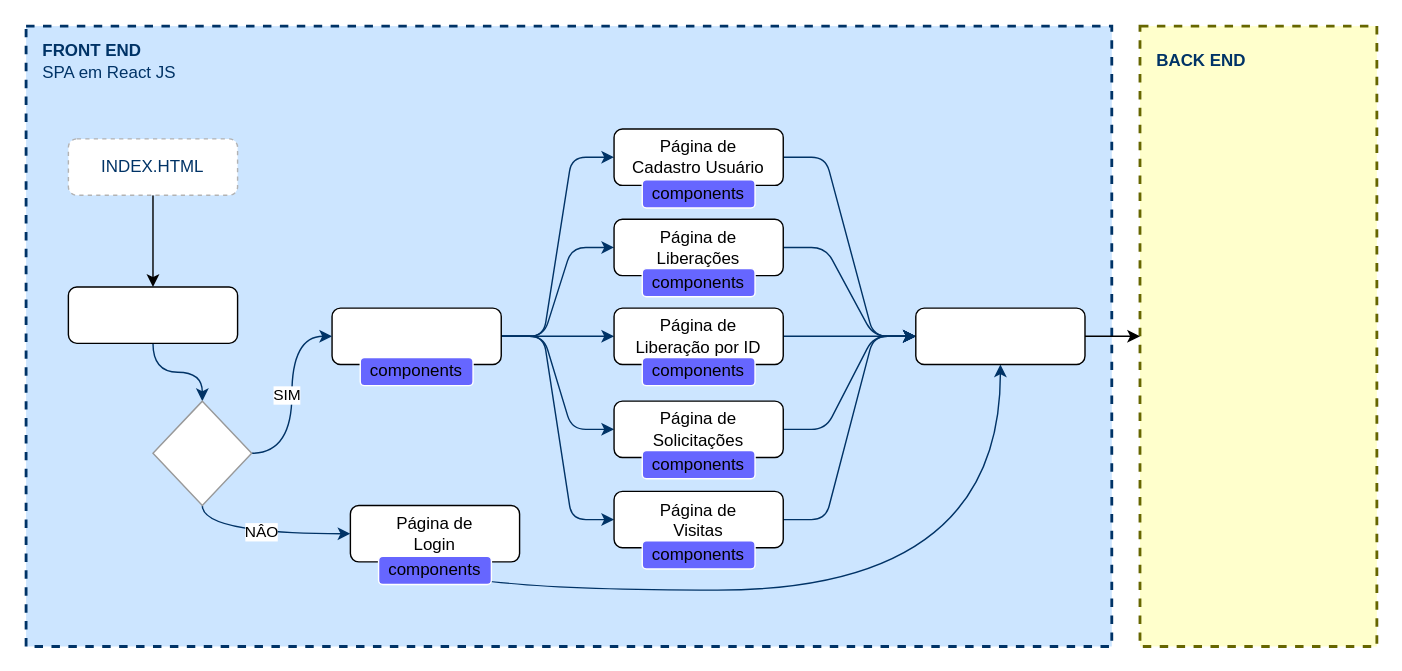
Some shapes in this 1402 by 671 pixel diagram are drawn without their labels. Here are the shapes that lost their labels. From the top down, the box of each, then its label:
(67, 286, 238, 343): main.js
(331, 307, 501, 364): Página Home
(914, 307, 1085, 364): Cliente HTTP
(152, 400, 252, 505): usuário logado
